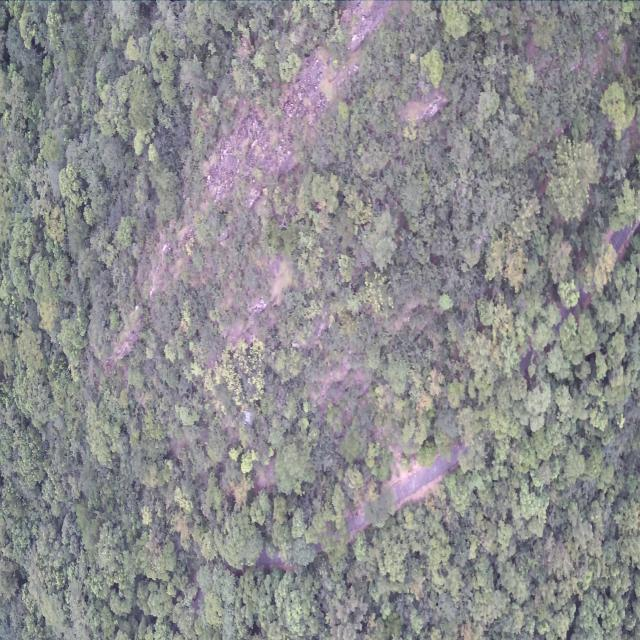drone: (240, 408, 254, 426)
